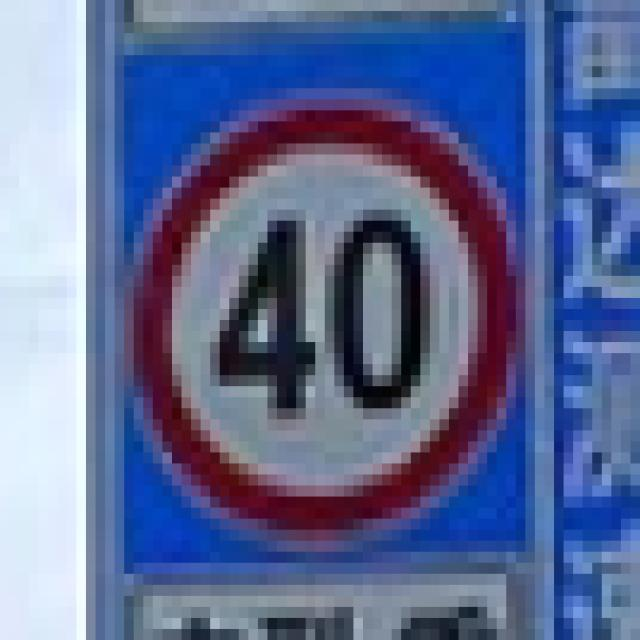speed limit 40: (126, 99, 518, 552)
